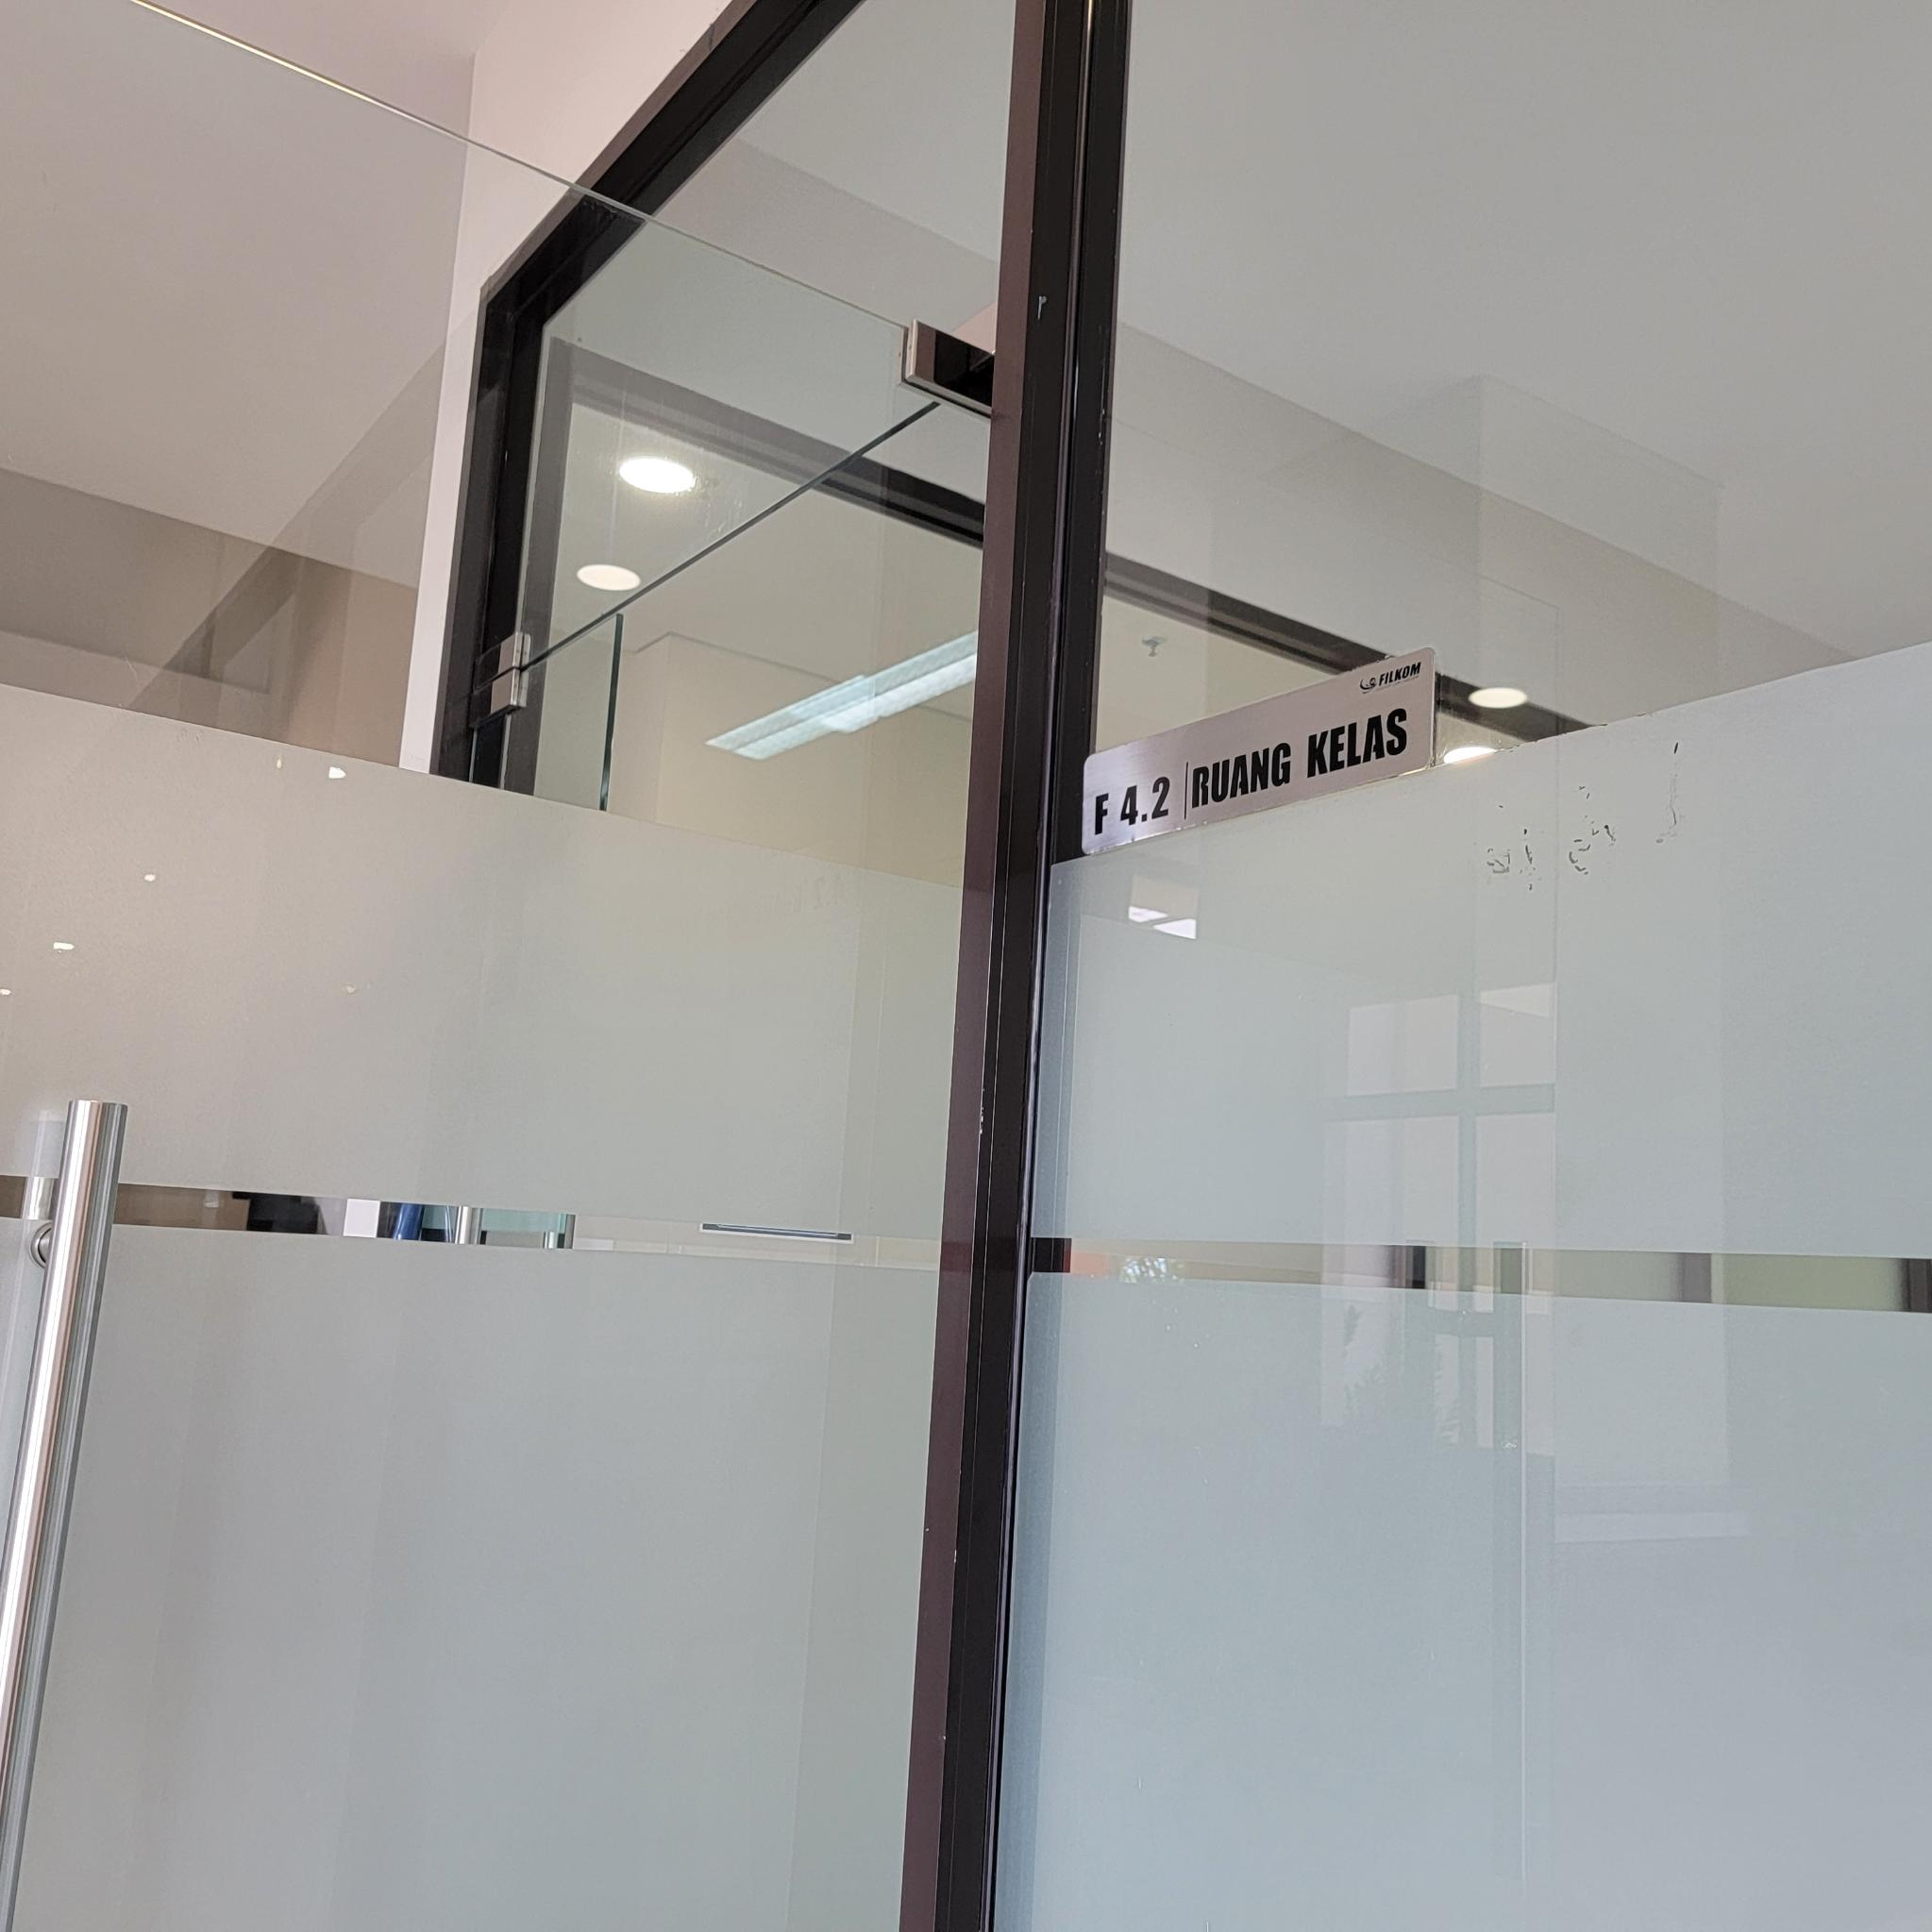plate: (1081, 644, 1437, 855)
